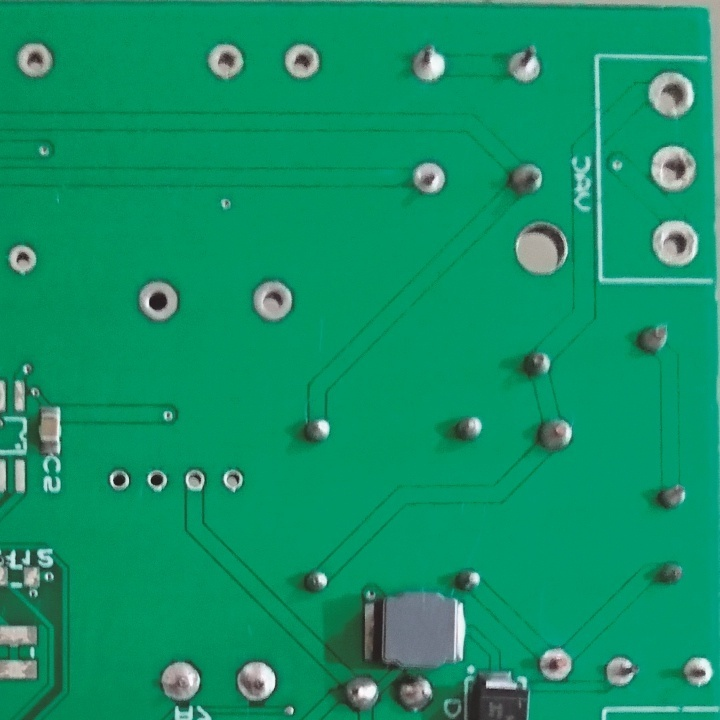F: (649, 215, 703, 272), (646, 66, 697, 121), (647, 140, 694, 195), (202, 41, 251, 86), (251, 278, 298, 323), (233, 658, 280, 703), (408, 155, 451, 203), (155, 659, 204, 701), (136, 279, 186, 320), (282, 42, 327, 83), (13, 40, 57, 81), (410, 42, 449, 86), (507, 42, 545, 87), (602, 652, 643, 689), (538, 646, 576, 685), (677, 653, 716, 691), (6, 243, 41, 279), (219, 466, 247, 497), (140, 469, 173, 495), (107, 466, 135, 495), (182, 466, 208, 495)
